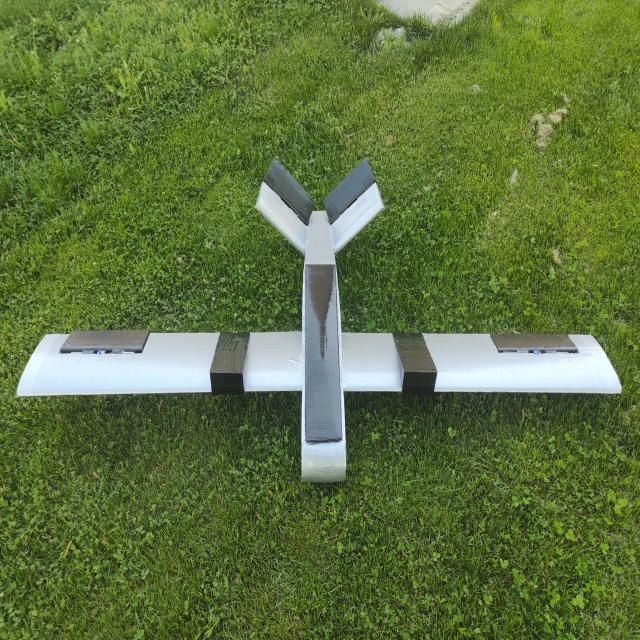UAV: (22, 175, 636, 490)
